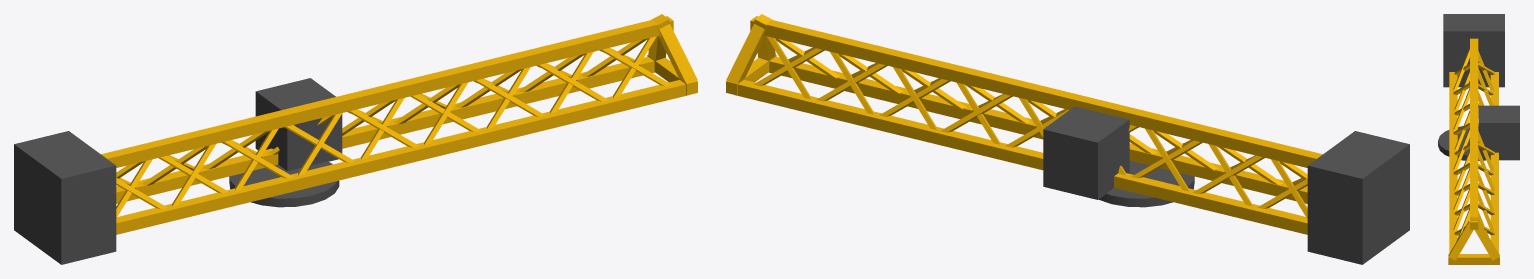
Rendered from Top.obj.
3 views of the same model, side by side, from view 1: azimuth 30°, elevation 25°; view 2: azimuth 150°, elevation 25°; view 3: azimuth 270°, elevation 25° (orthographic). The views are drawn at different scales.
Parts seen in each view (by area): view 1: Top_1, Top_0; view 2: Top_1, Top_0; view 3: Top_1, Top_0.
Part boxes in pixels (x1=…): Top_1: x1=101, y1=14, x2=697, y2=234; Top_0: x1=14, y1=78, x2=342, y2=264; Top_1: x1=726, y1=14, x2=1322, y2=234; Top_0: x1=1043, y1=106, x2=1409, y2=264; Top_1: x1=1448, y1=38, x2=1499, y2=264; Top_0: x1=1438, y1=14, x2=1519, y2=160.
Size of the model in its own units: 23.43 by 3 by 3.97.
